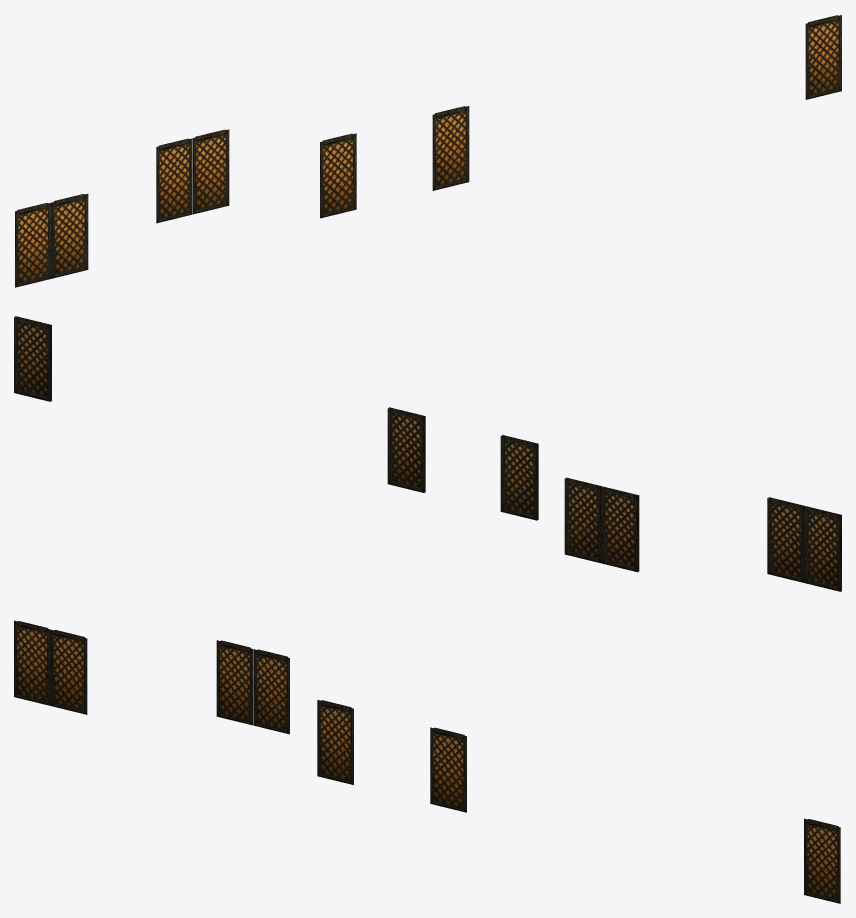
The model's file is LAKETOWN_EXTERIOR_PS_LT_WINDOW_LONG_LOD1_03.fbx.
3 renders of one model, top to bottom at view 1: azimuth 30°, elevation 25°; view 2: azimuth 150°, elevation 25°; view 3: azimuth 330°, elevation 25°, orthographic.
Parts seen in each view (by area): view 1: LAKETOWN_EXTERIOR_PS_LT_WINDOW_LONG_LOD1_03; view 2: LAKETOWN_EXTERIOR_PS_LT_WINDOW_LONG_LOD1_03; view 3: LAKETOWN_EXTERIOR_PS_LT_WINDOW_LONG_LOD1_03.
Boxes of the visible parts, x1=… form: LAKETOWN_EXTERIOR_PS_LT_WINDOW_LONG_LOD1_03: x1=15, y1=15, x2=841, y2=287; LAKETOWN_EXTERIOR_PS_LT_WINDOW_LONG_LOD1_03: x1=14, y1=316, x2=841, y2=591; LAKETOWN_EXTERIOR_PS_LT_WINDOW_LONG_LOD1_03: x1=14, y1=620, x2=840, y2=903.
Bounding box in the file's own units: 168318 × 15629 × 11609.
Materials: 2 (2 with a texture image).
